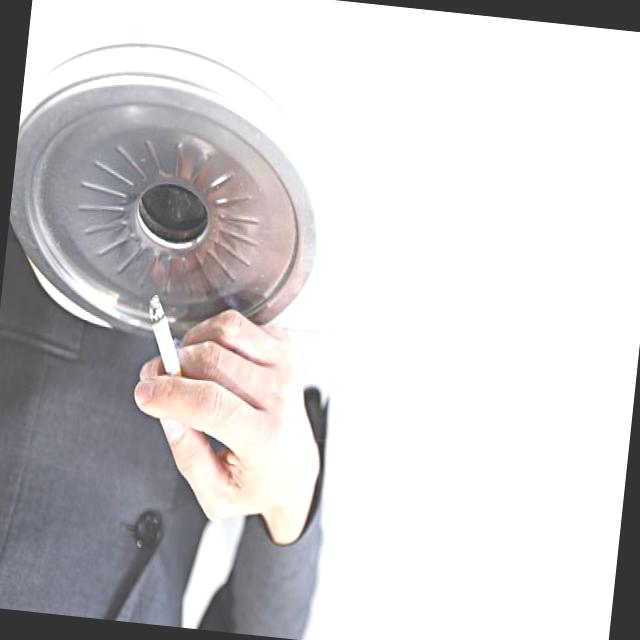smoke: (134, 298, 197, 401)
